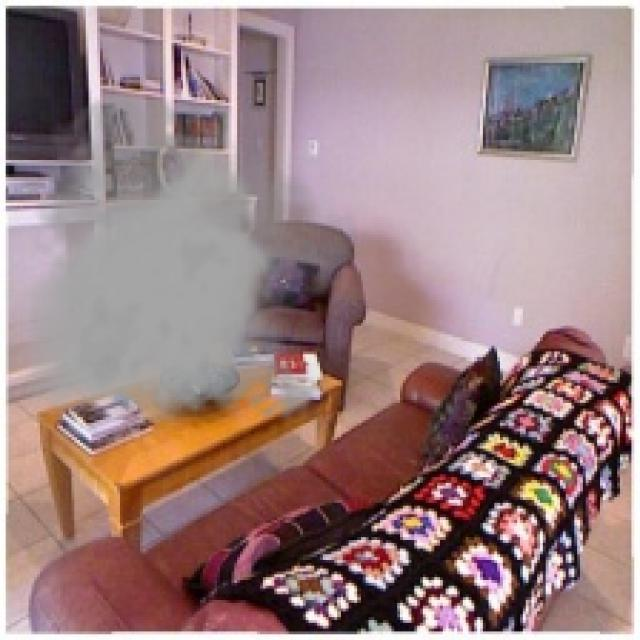Smoke: (6, 89, 357, 432)
